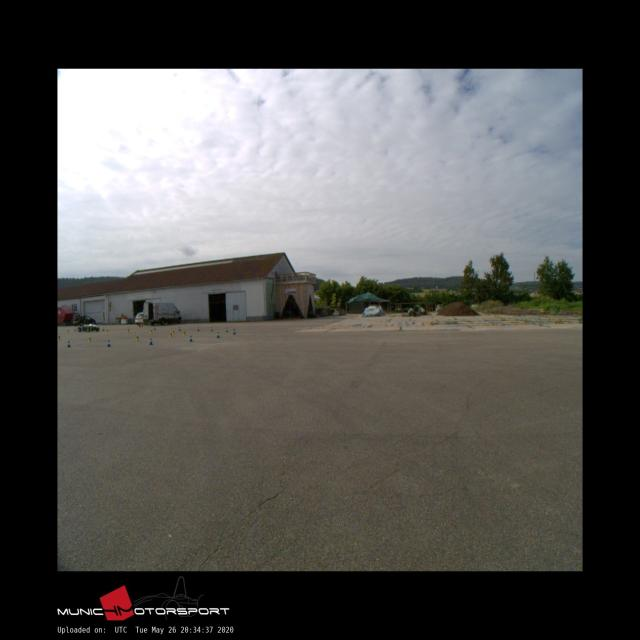blue_cone: (106, 340, 110, 347), (149, 338, 153, 345), (189, 336, 193, 342), (216, 332, 220, 338), (67, 341, 70, 347), (233, 330, 236, 334), (197, 328, 200, 332), (178, 327, 181, 331), (226, 328, 228, 332), (211, 327, 213, 331)
yellow_cone: (88, 336, 92, 342), (169, 332, 173, 337), (136, 334, 139, 340), (127, 328, 130, 333), (58, 336, 61, 340), (183, 330, 185, 335), (106, 328, 108, 333), (150, 329, 152, 333)
